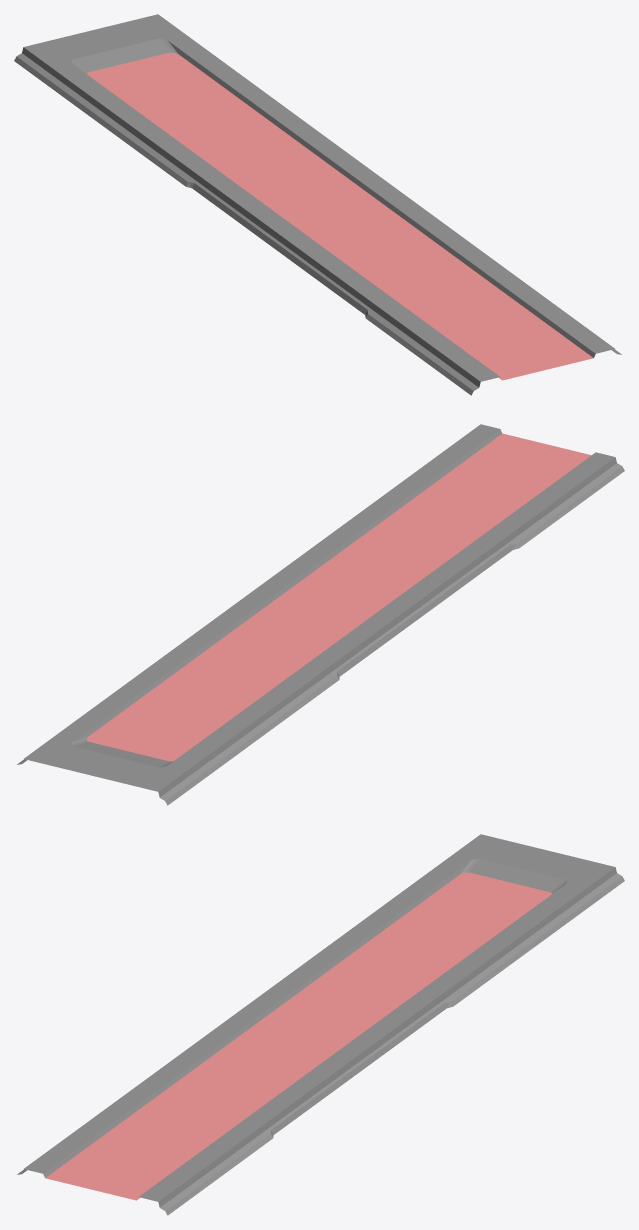
Rendered from S_Envi_Umeda_Ground_01_A.gltf.
3 renders of one model, top to bottom at view 1: azimuth 30°, elevation 25°; view 2: azimuth 150°, elevation 25°; view 3: azimuth 330°, elevation 25°, orthographic.
Visible parts, largest first — view 1: S_Envi_Umeda_Ground_01_A; view 2: S_Envi_Umeda_Ground_01_A; view 3: S_Envi_Umeda_Ground_01_A.
Part boxes in pixels (x1,y1,x2,y2): S_Envi_Umeda_Ground_01_A: [14, 14, 621, 395]; S_Envi_Umeda_Ground_01_A: [17, 424, 624, 805]; S_Envi_Umeda_Ground_01_A: [17, 834, 624, 1215].
Size of the model in its own units: 0.388 by 0.0281 by 2.
